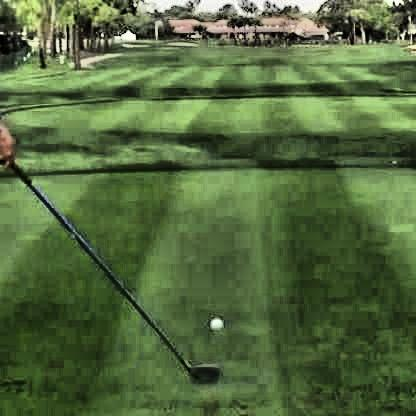golfball: (206, 315, 221, 331)
